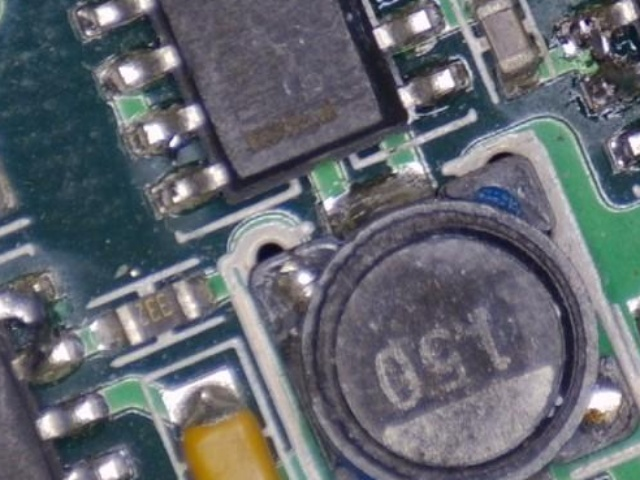pcb_defect: (126, 101, 233, 221), (556, 0, 640, 109)
